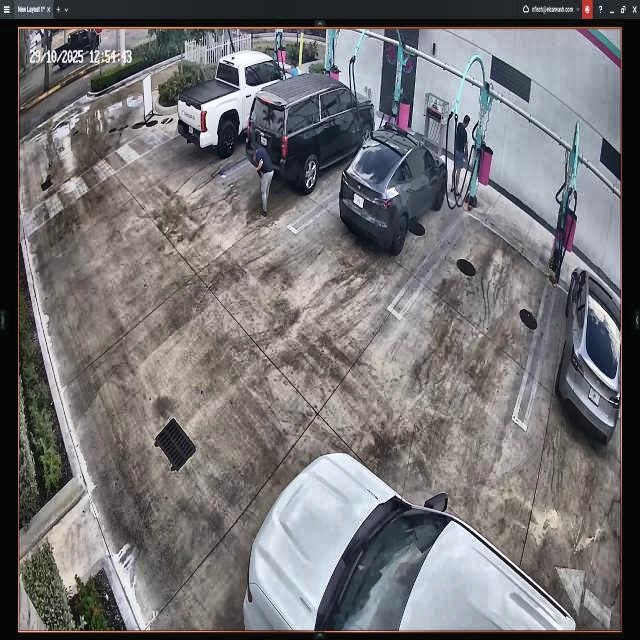Car: (249, 75, 375, 189), (341, 125, 447, 253), (178, 53, 301, 156)
